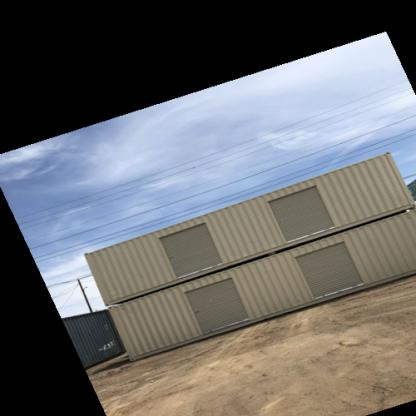Damage: (165, 247, 176, 264), (191, 304, 202, 318), (302, 270, 312, 283), (276, 207, 281, 232)
